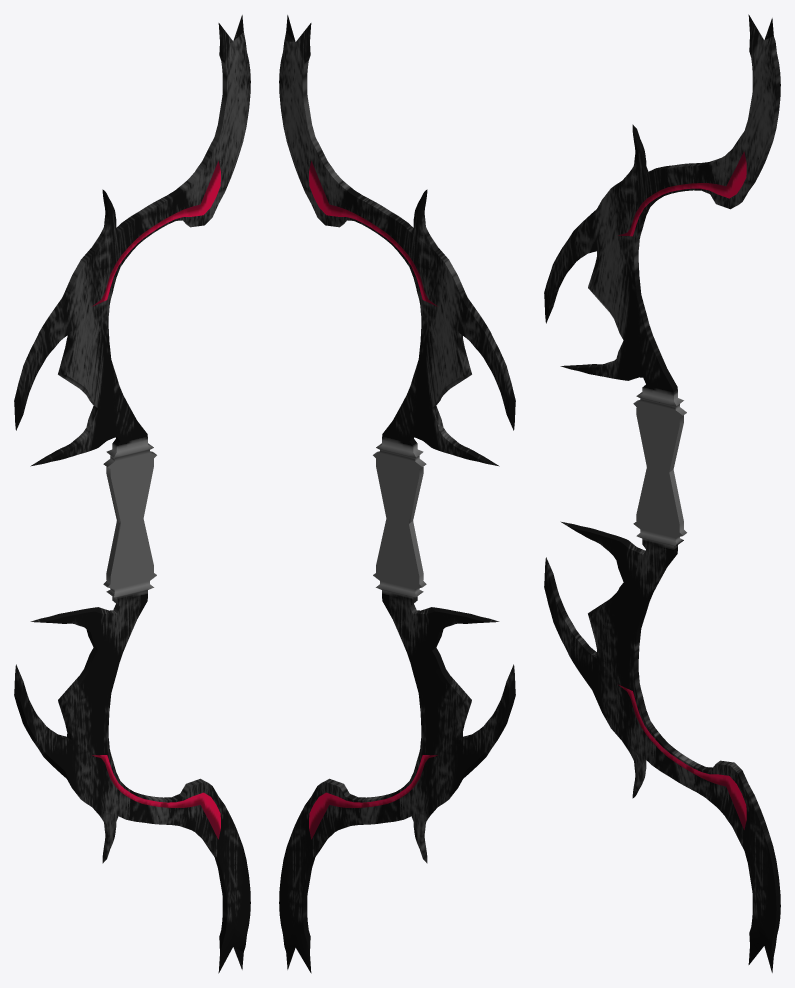
The model's file is Bow.FBX.
The picture shows the model from 3 angles, left to right: view 1: azimuth 30°, elevation 25°; view 2: azimuth 150°, elevation 25°; view 3: azimuth 330°, elevation 25°; orthographic projection.
Visible parts, largest first — view 1: Box003; view 2: Box003; view 3: Box003.
Part boxes in pixels (x1,y1,x2,y2): Box003: [14, 15, 250, 973]; Box003: [279, 15, 515, 973]; Box003: [544, 14, 780, 972].
Bounding box in the file's own units: 157 × 9.02 × 613.
Materials: 1 (1 with a texture image).
